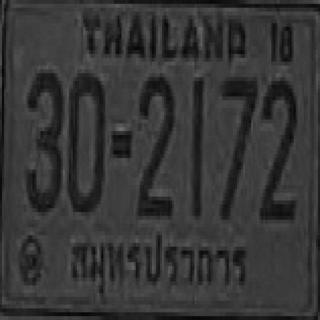N00: (68, 69, 104, 212)
N01: (190, 77, 203, 216)
N02: (259, 77, 296, 216), (138, 73, 172, 216)
N03: (25, 69, 64, 212)
N07: (220, 75, 256, 218)
P57: (65, 232, 252, 300)
